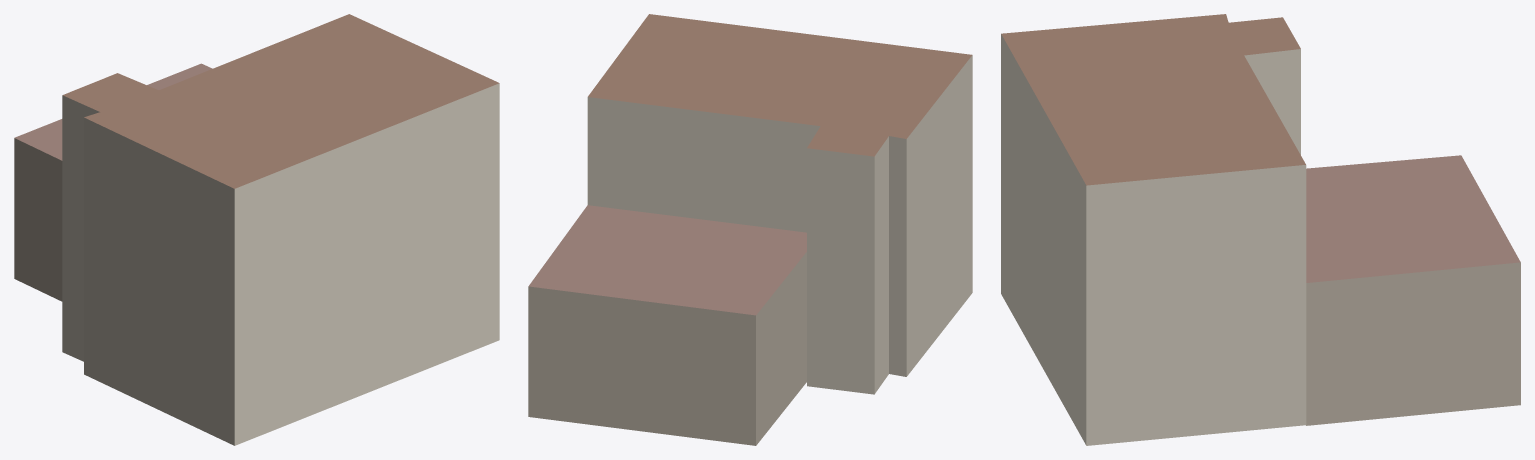
3 renders of one model, left to right at view 1: azimuth 30°, elevation 25°; view 2: azimuth 150°, elevation 25°; view 3: azimuth 270°, elevation 25°, orthographic. The views are drawn at different scales.
Parts seen in each view (by area): view 1: tuile; view 2: tuile; view 3: tuile.
Part boxes in pixels (<box>): tuile: <box>14,14,499,445</box>; tuile: <box>528,14,972,445</box>; tuile: <box>1001,14,1520,445</box>.
Bounding box in the file's own units: 15.7 × 11.14 × 20.1.
